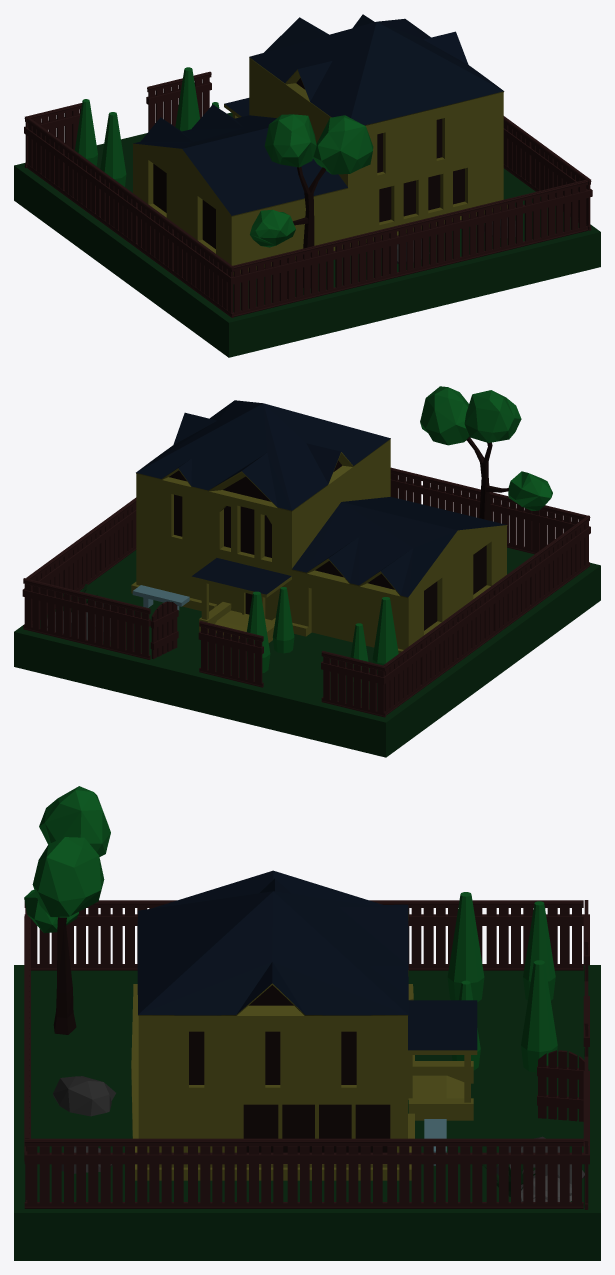
The model's file is House.FBX.
3 views of the same model, one above another, from view 1: azimuth 30°, elevation 25°; view 2: azimuth 150°, elevation 25°; view 3: azimuth 270°, elevation 25° (orthographic). The views are drawn at different scales.
Parts seen in each view (by area): view 1: House; view 2: House; view 3: House.
Boxes of the visible parts, <box> form: House: <box>14,14,600,357</box>; House: <box>14,386,600,757</box>; House: <box>14,786,600,1260</box>.
Size of the model in its own units: 10000 by 5327 by 10000.
